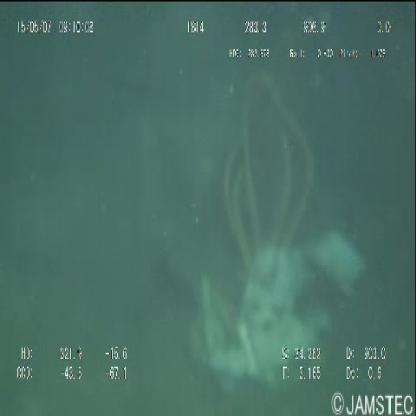Rác: (186, 234, 366, 388)
